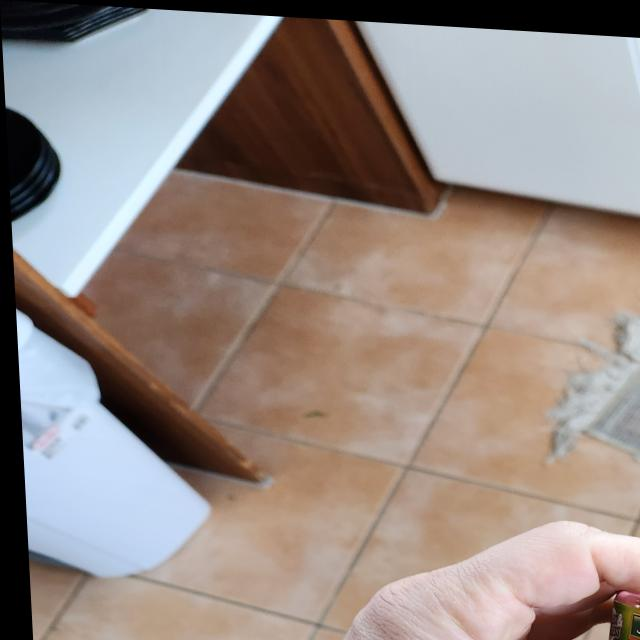salmon: (591, 578, 640, 640)
